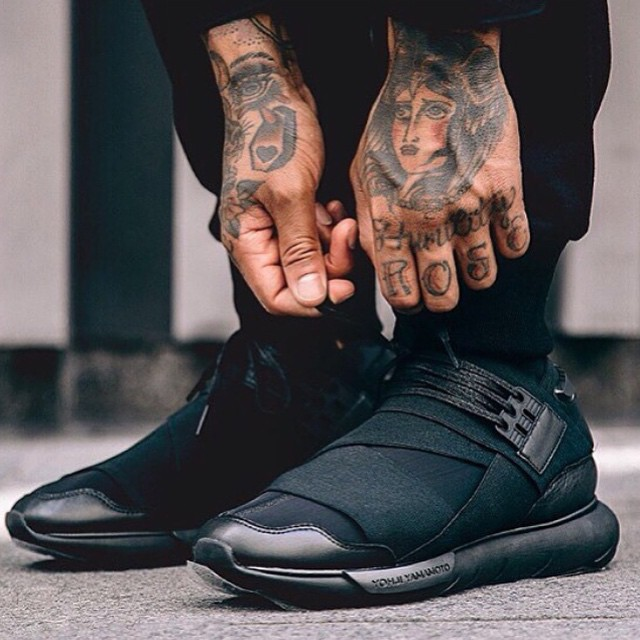sneaker: (167, 315, 635, 621), (1, 308, 416, 571)
